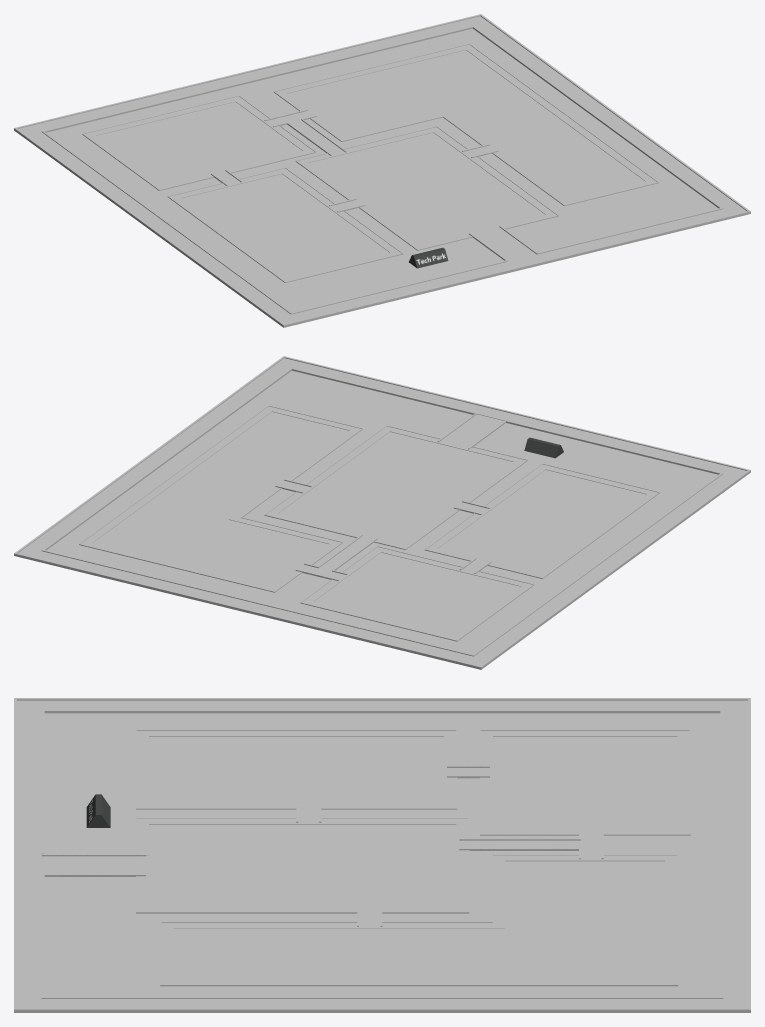
The model's file is Others.fbx.
3 views of the same model, one above another, from view 1: azimuth 30°, elevation 25°; view 2: azimuth 150°, elevation 25°; view 3: azimuth 270°, elevation 25° (orthographic). The views are drawn at different scales.
Visible parts, largest first — view 1: TechParkLawn, TechParkRoadSide, TechParkRightUpOfficeArounds, TechParkRoad, TechParkCenterOfficeArounds, TechParkLeftDownOfficeArounds, TechParkLeftUpOfficeArounds, TechParkBoard; view 2: TechParkLawn, TechParkRoadSide, TechParkRightUpOfficeArounds, TechParkRoad, TechParkCenterOfficeArounds, TechParkLeftDownOfficeArounds, TechParkLeftUpOfficeArounds, TechParkBoard; view 3: TechParkLawn, TechParkRoadSide, TechParkRightUpOfficeArounds, TechParkRoad, TechParkCenterOfficeArounds, TechParkLeftDownOfficeArounds, TechParkLeftUpOfficeArounds, TechParkBoard.
Boxes of the visible parts, box(x1,y1,x2,y2) form: TechParkLawn: box(14, 28, 750, 327); TechParkRoadSide: box(14, 14, 750, 326); TechParkRightUpOfficeArounds: box(273, 43, 658, 206); TechParkRoad: box(210, 109, 538, 261); TechParkCenterOfficeArounds: box(295, 126, 558, 250); TechParkLeftDownOfficeArounds: box(167, 167, 402, 282); TechParkLeftUpOfficeArounds: box(82, 95, 316, 190); TechParkBoard: box(409, 247, 448, 268); TechParkLawn: box(14, 370, 750, 669); TechParkRoadSide: box(14, 356, 750, 669); TechParkRightUpOfficeArounds: box(79, 405, 362, 592); TechParkRoad: box(274, 413, 506, 581); TechParkCenterOfficeArounds: box(264, 425, 527, 549); TechParkLeftDownOfficeArounds: box(424, 463, 660, 578); TechParkLeftUpOfficeArounds: box(300, 546, 534, 641); TechParkBoard: box(524, 437, 563, 458); TechParkLawn: box(14, 713, 750, 1012); TechParkRoadSide: box(14, 698, 750, 1012); TechParkRightUpOfficeArounds: box(160, 854, 678, 986); TechParkRoad: box(41, 766, 603, 928); TechParkCenterOfficeArounds: box(136, 818, 469, 913); TechParkLeftDownOfficeArounds: box(136, 730, 456, 809); TechParkLeftUpOfficeArounds: box(480, 730, 690, 835); TechParkBoard: box(86, 794, 110, 827).
Bounding box in the file's own units: 120 × 2.5 × 120.
